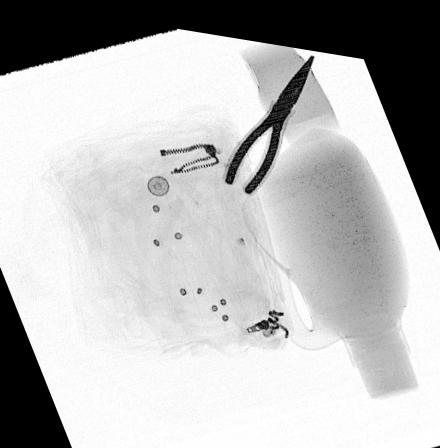Pliers: (220, 42, 315, 188)
